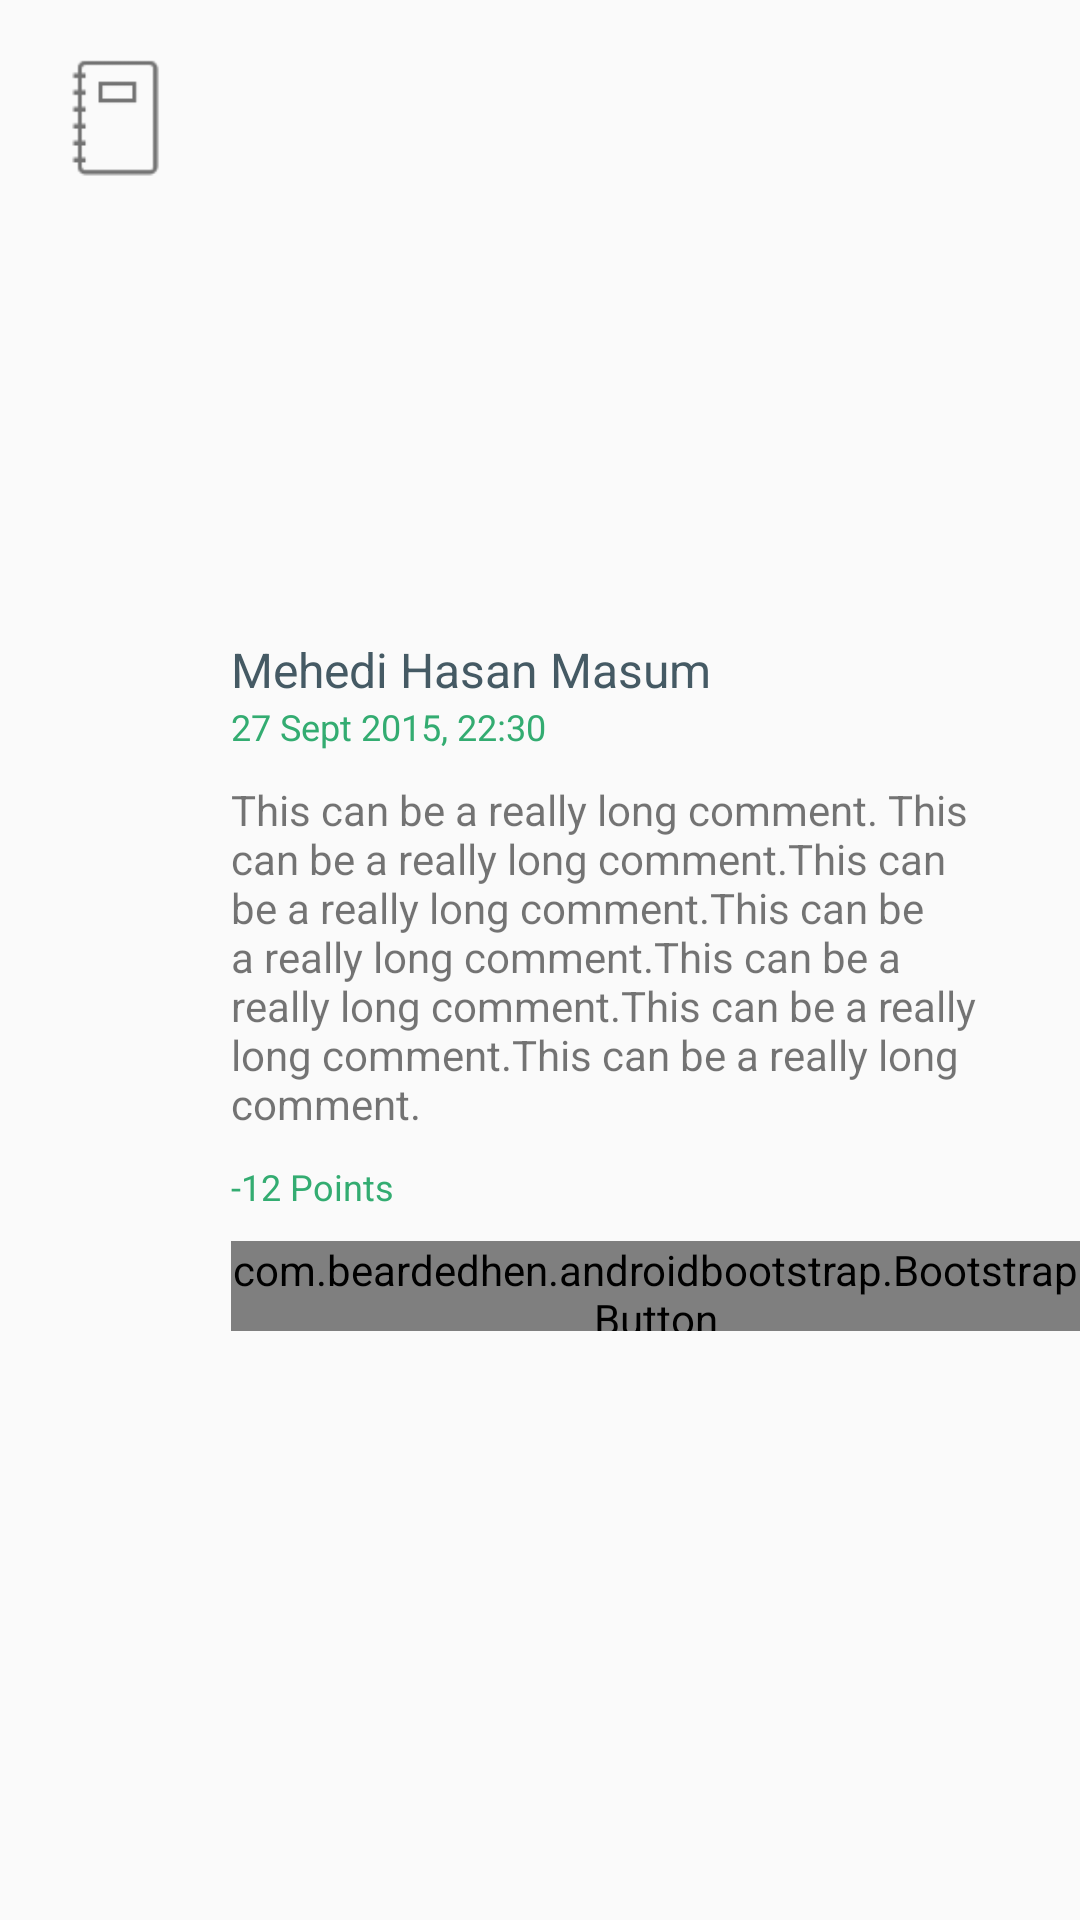

Point at icon controls on the screen. Image size 1080 x 1920, points as point (x, y).
notebook: point (115, 118)
